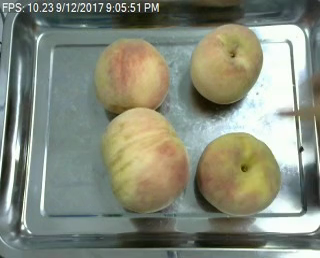Peach: (101, 106, 189, 212), (197, 131, 282, 216), (92, 35, 172, 113), (190, 22, 265, 105)
